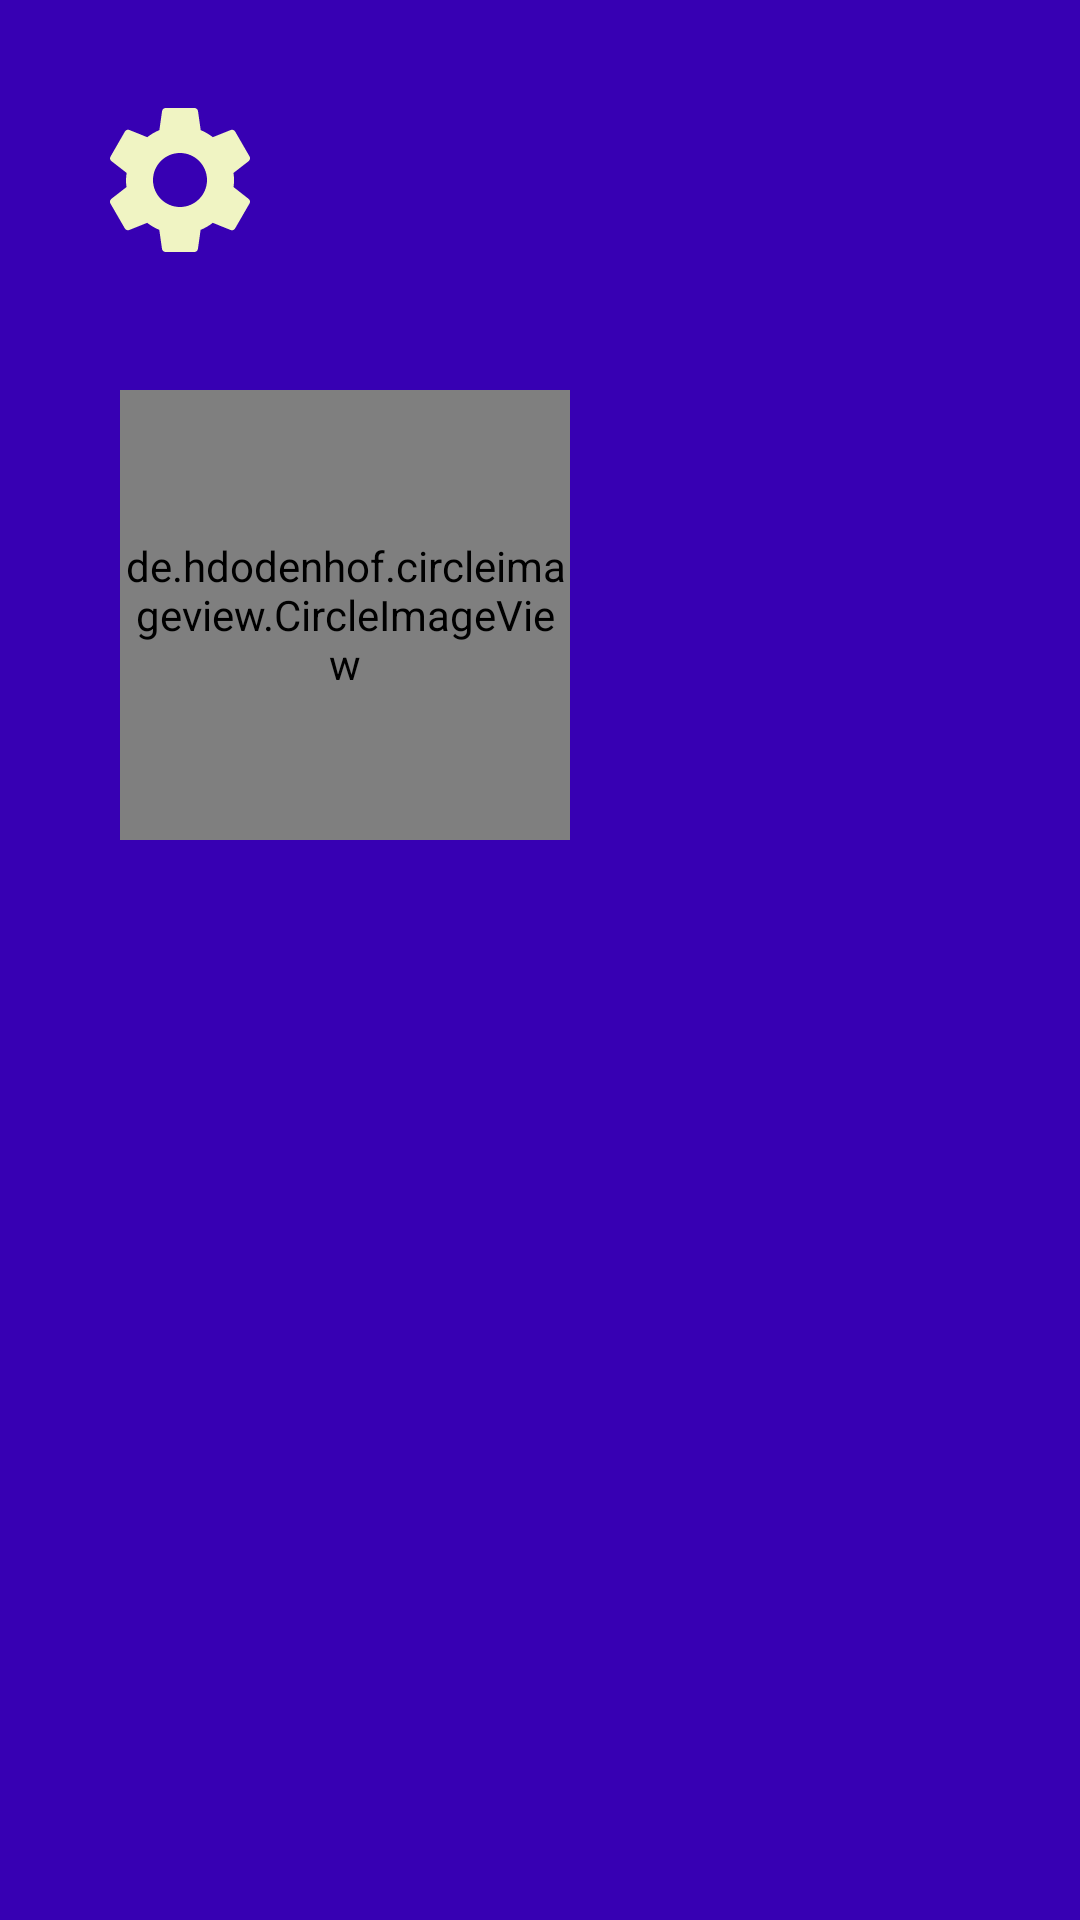

Screen size 1080 x 1920. Icon name, then its center in pixels as (x=x, y=y):
settings: (x=180, y=180)
